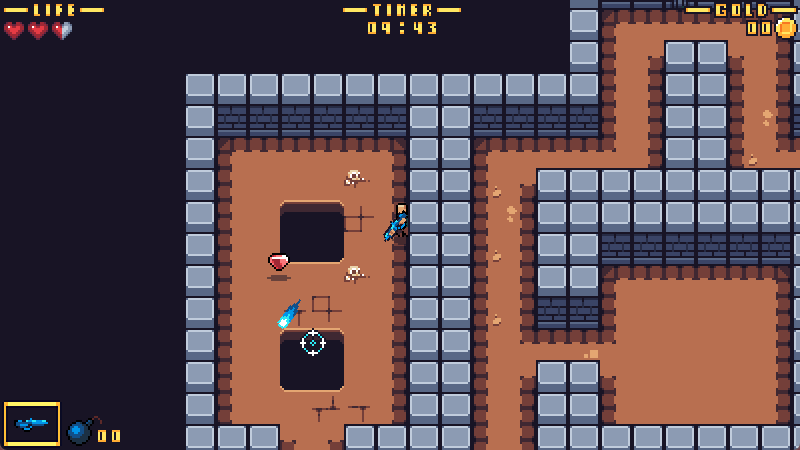aim: (299, 328, 326, 357)
bomb_counter_0: (68, 415, 121, 450)
gold_counter: (686, 1, 800, 39)
health-1: (1, 17, 75, 42)
player: (384, 204, 411, 242)
pot: (268, 251, 290, 272)
shoot: (277, 299, 301, 329)
timer: (342, 1, 460, 35)
